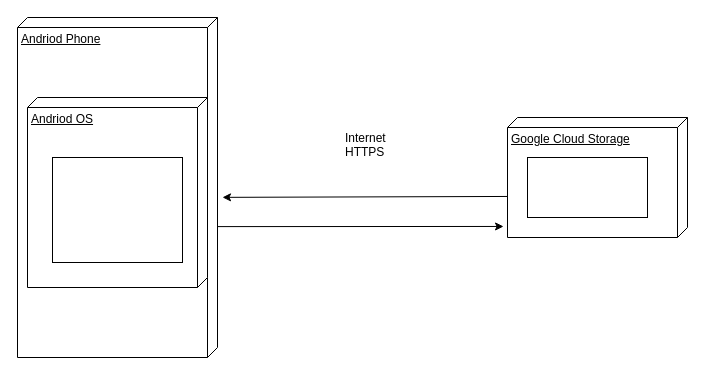
Image size: 705x375. Some labels were removed from this diagram. The centre of each missing label's shape, as x and y in pixels:
"Firebase" belongs at (587,187).
"foodie app" belongs at (117,209).
